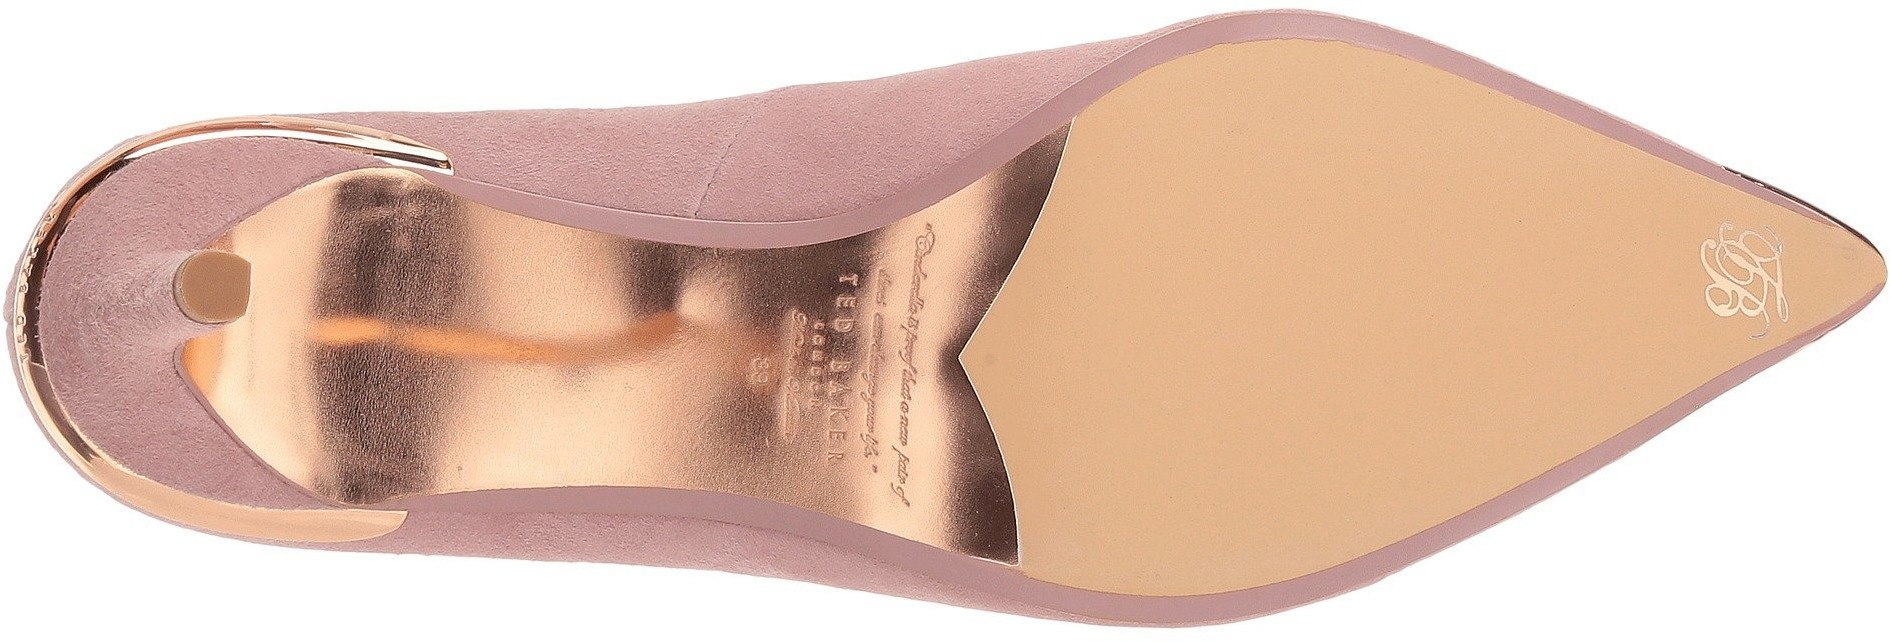other: (1011, 291, 1301, 561), (1311, 258, 1520, 475), (1083, 109, 1290, 285), (1295, 72, 1488, 255), (1527, 264, 1675, 403)
text: (1699, 218, 1809, 331)
